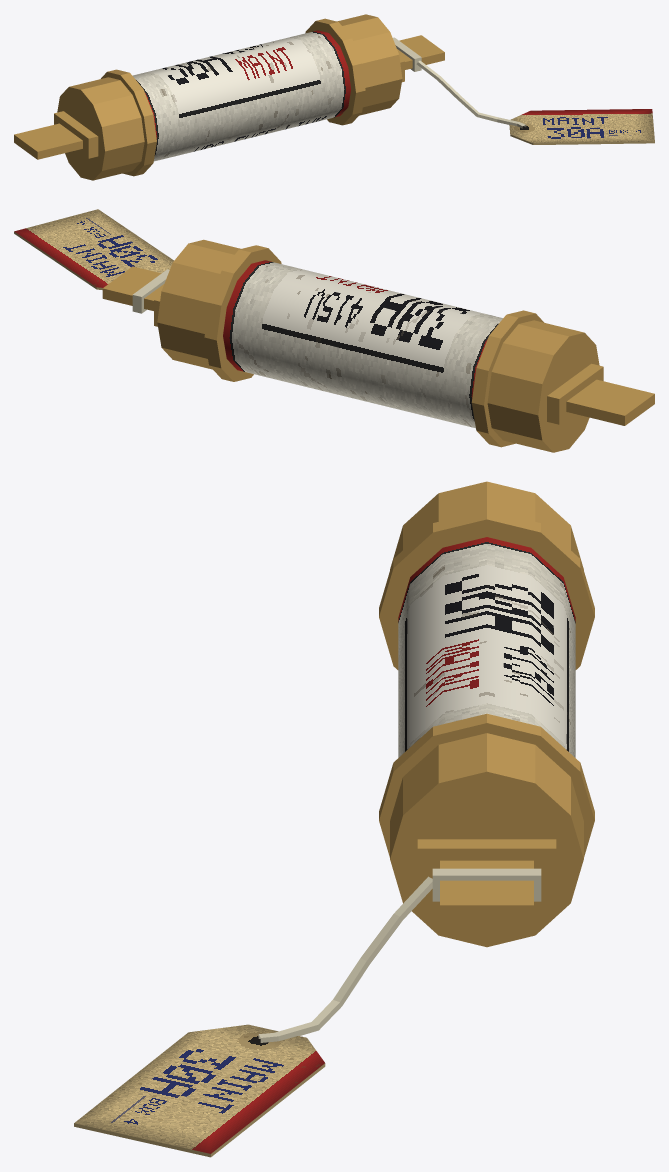
The model's file is fuse.glb.
3 views of the same model, one above another, from view 1: azimuth 30°, elevation 25°; view 2: azimuth 150°, elevation 25°; view 3: azimuth 270°, elevation 25° (orthographic). The views are drawn at different scales.
Parts seen in each view (by area): view 1: fuse; view 2: fuse; view 3: fuse.
Part boxes in pixels (x1=…): fuse: x1=14, y1=14, x2=654, y2=180; fuse: x1=14, y1=209, x2=654, y2=452; fuse: x1=74, y1=481, x2=594, y2=1157.
Bounding box in the file's own units: 0.2325 × 0.039 × 0.0941.
Materials: 4 (2 with a texture image).
